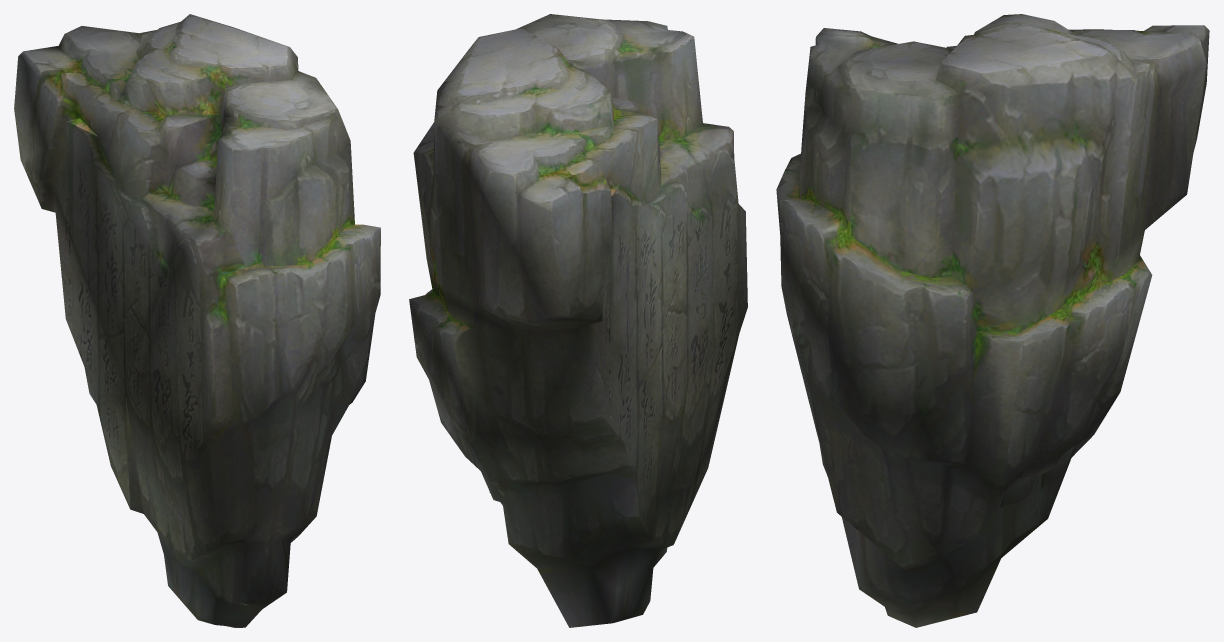
The model's file is wlf_shanshi04_w.FBX.
3 views of the same model, side by side, from view 1: azimuth 30°, elevation 25°; view 2: azimuth 150°, elevation 25°; view 3: azimuth 270°, elevation 25° (orthographic). The views are drawn at different scales.
Parts seen in each view (by area): view 1: wlf_shanshi04_w; view 2: wlf_shanshi04_w; view 3: wlf_shanshi04_w.
Part boxes in pixels (box(x1,y1,x2,y2)): wlf_shanshi04_w: box(14, 14, 380, 627); wlf_shanshi04_w: box(409, 14, 747, 627); wlf_shanshi04_w: box(776, 14, 1209, 627).
Size of the model in its own units: 146 by 337 by 220.
